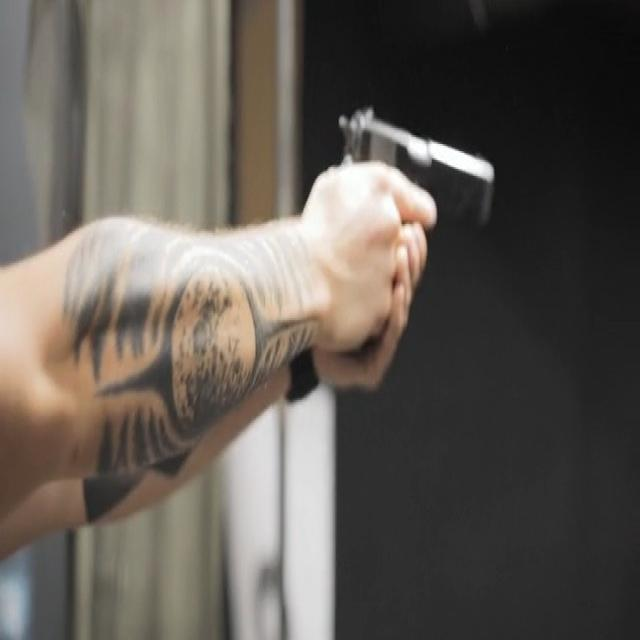Gun_Holder: (252, 88, 516, 406)
